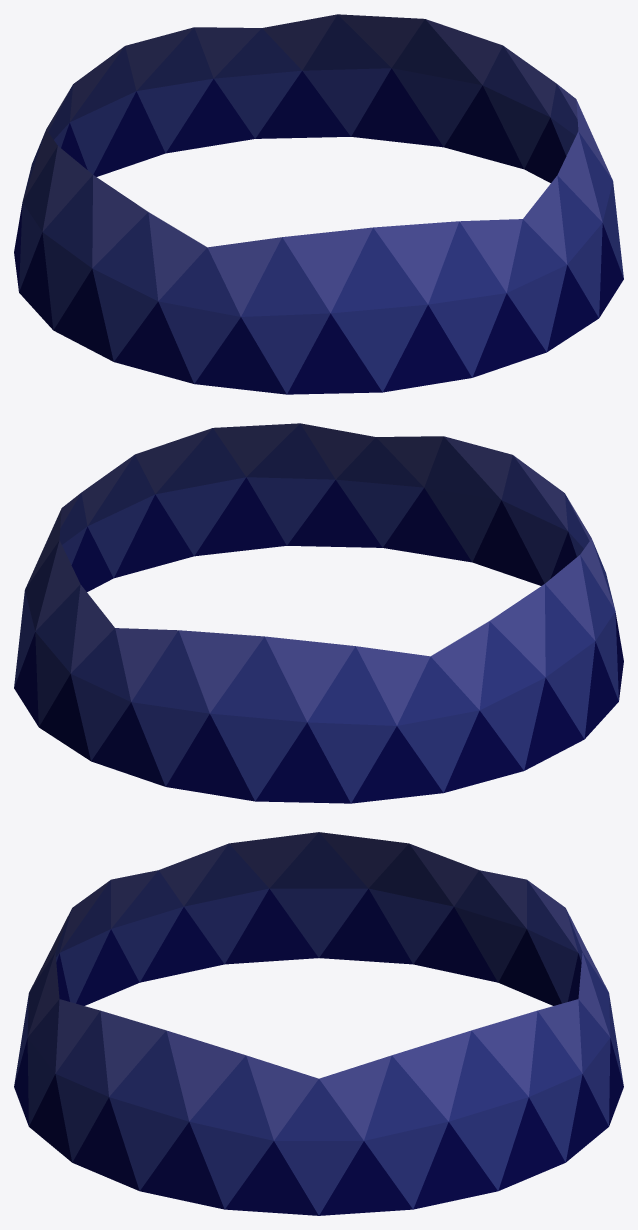
File: GuardSphereBlue.fbx
The picture shows the model from 3 angles, top to bottom: view 1: azimuth 30°, elevation 25°; view 2: azimuth 150°, elevation 25°; view 3: azimuth 270°, elevation 25°; orthographic projection.
Parts seen in each view (by area): view 1: Icosphere; view 2: Icosphere; view 3: Icosphere.
Part boxes in pixels (box(x1,y1,x2,y2)): Icosphere: box(14, 14, 623, 394); Icosphere: box(14, 423, 623, 803); Icosphere: box(14, 832, 623, 1215).
Size of the model in its own units: 200 by 52.57 by 200.
